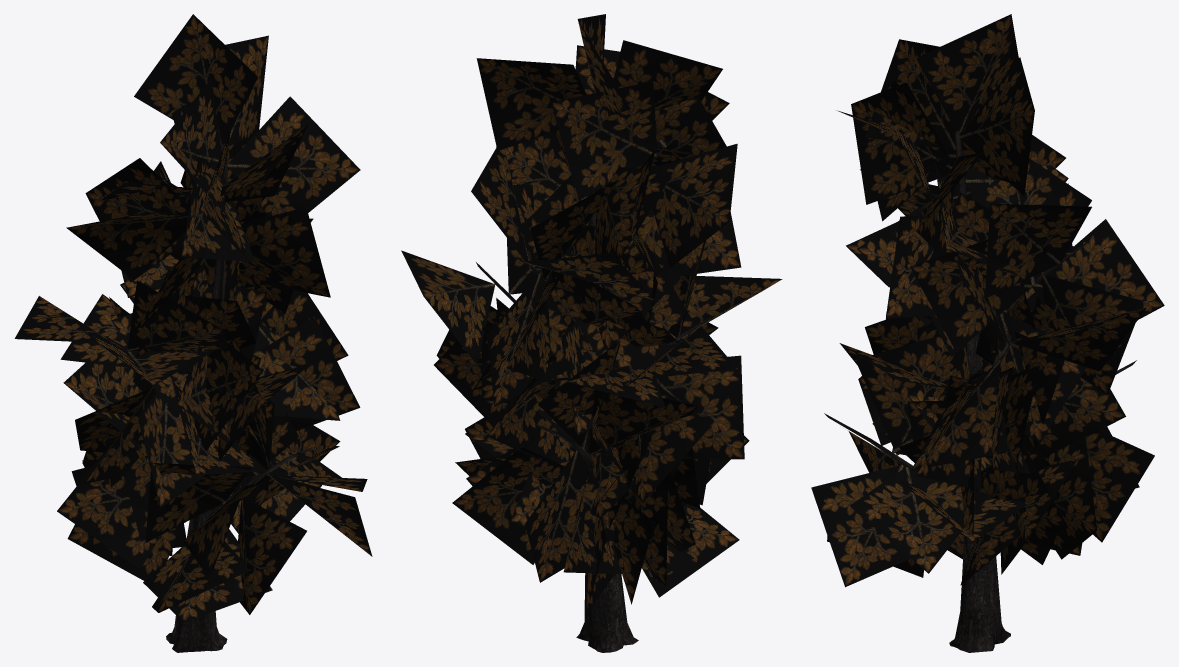
Rendered from tree_6.glb.
The picture shows the model from 3 angles, left to right: view 1: azimuth 30°, elevation 25°; view 2: azimuth 150°, elevation 25°; view 3: azimuth 270°, elevation 25°; orthographic projection. The views are drawn at different scales.
Parts seen in each view (by area): view 1: tree_6_leaves, tree_6; view 2: tree_6_leaves, tree_6; view 3: tree_6_leaves, tree_6.
Boxes of the visible parts, x1,y1,x2,y2 form: tree_6_leaves: (14,14,372,622); tree_6: (105,143,312,652); tree_6_leaves: (401,14,782,613); tree_6: (476,130,714,652); tree_6_leaves: (811,14,1164,587); tree_6: (824,131,1136,652).
Size of the model in its own units: 3.25 by 6.06 by 3.07.
Materials: 2 (2 with a texture image).
